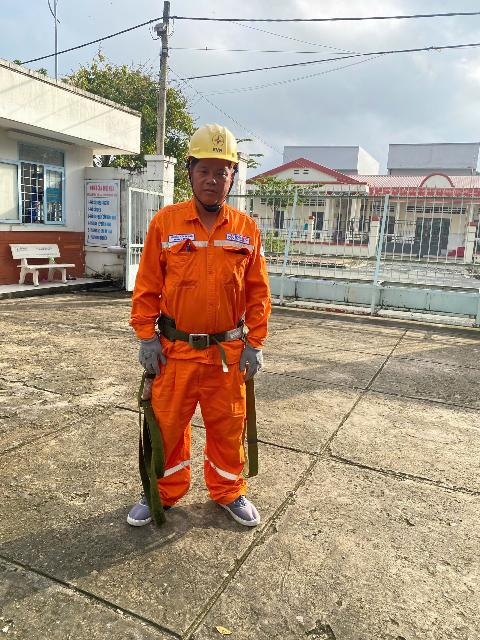gloves: (131, 327, 174, 380), (236, 336, 275, 389)
harness: (153, 307, 257, 352)
helmet: (182, 114, 253, 167)
shoes: (213, 487, 284, 532), (126, 491, 171, 528)
